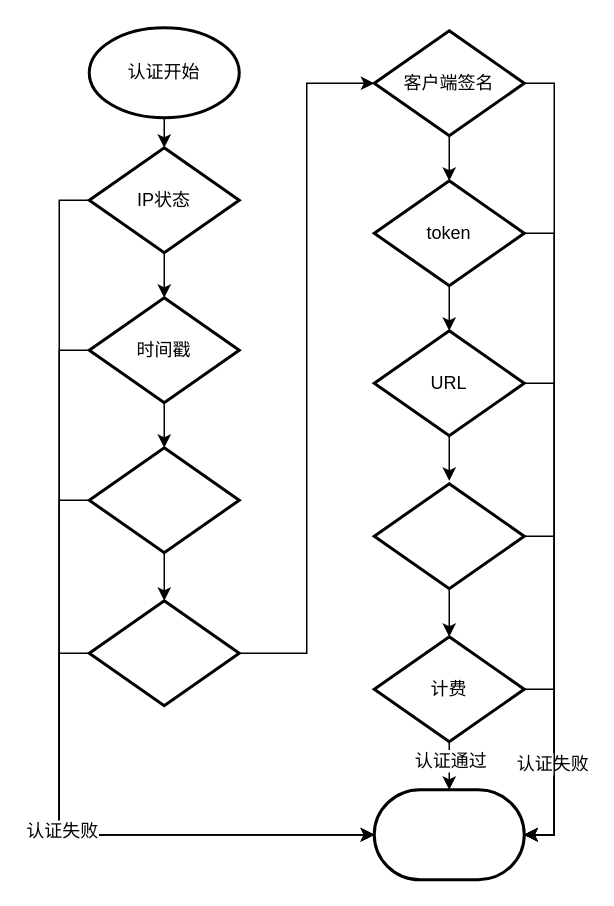
The diagram is 614 pixels wide and 906 high, and some of its shapes have lost their labels. The centre of each missing label's shape, as x and y in pixels:
key: the point at 163,500
公司信息: the point at 163,652
认证结束: the point at 448,834
访问是否超频次: the point at 448,536
